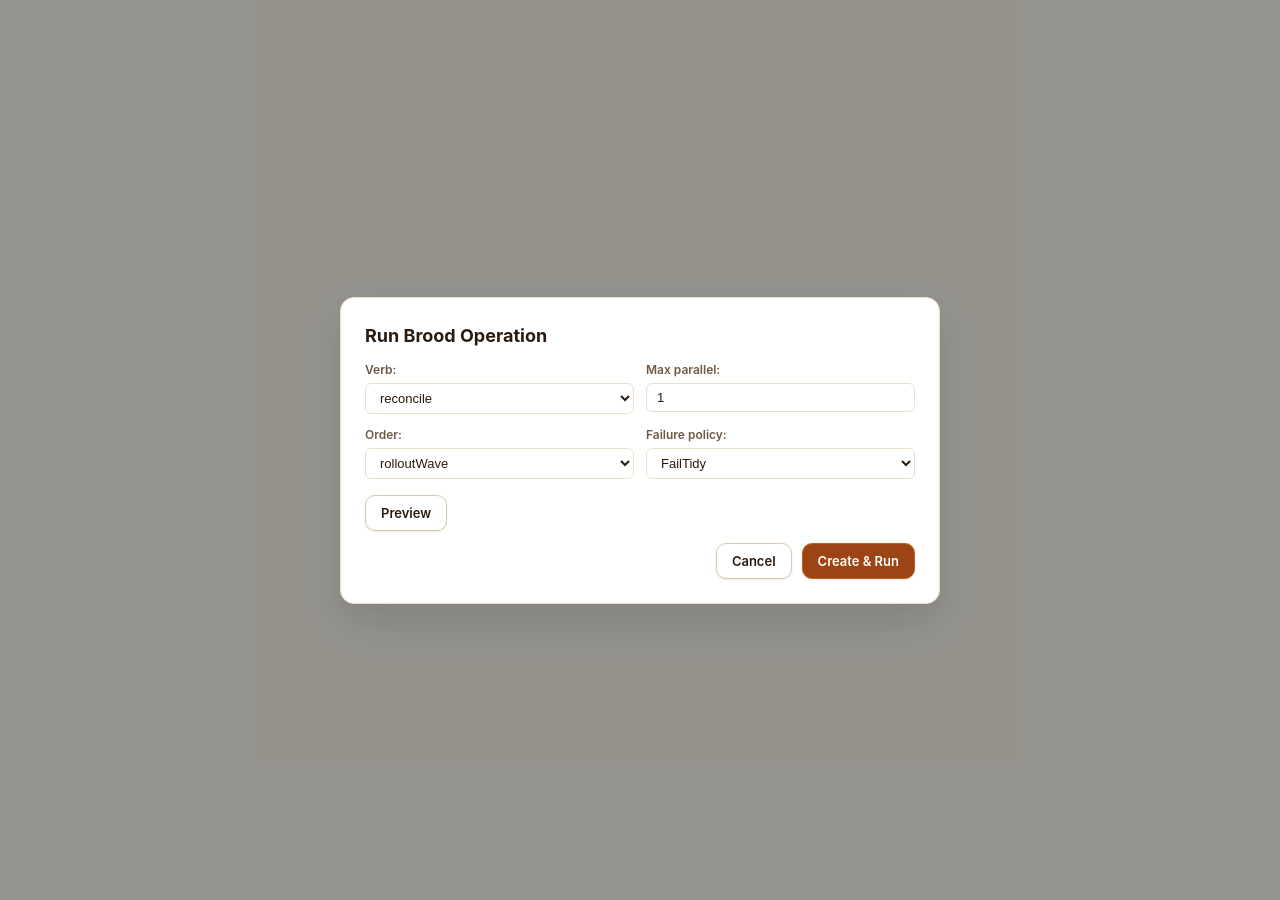
Scenario: BroodOperationModal › clears a shown preview when the caller changes the target selection
Click the button "Preview". click: (406, 512)
box: [365,494,447,530]
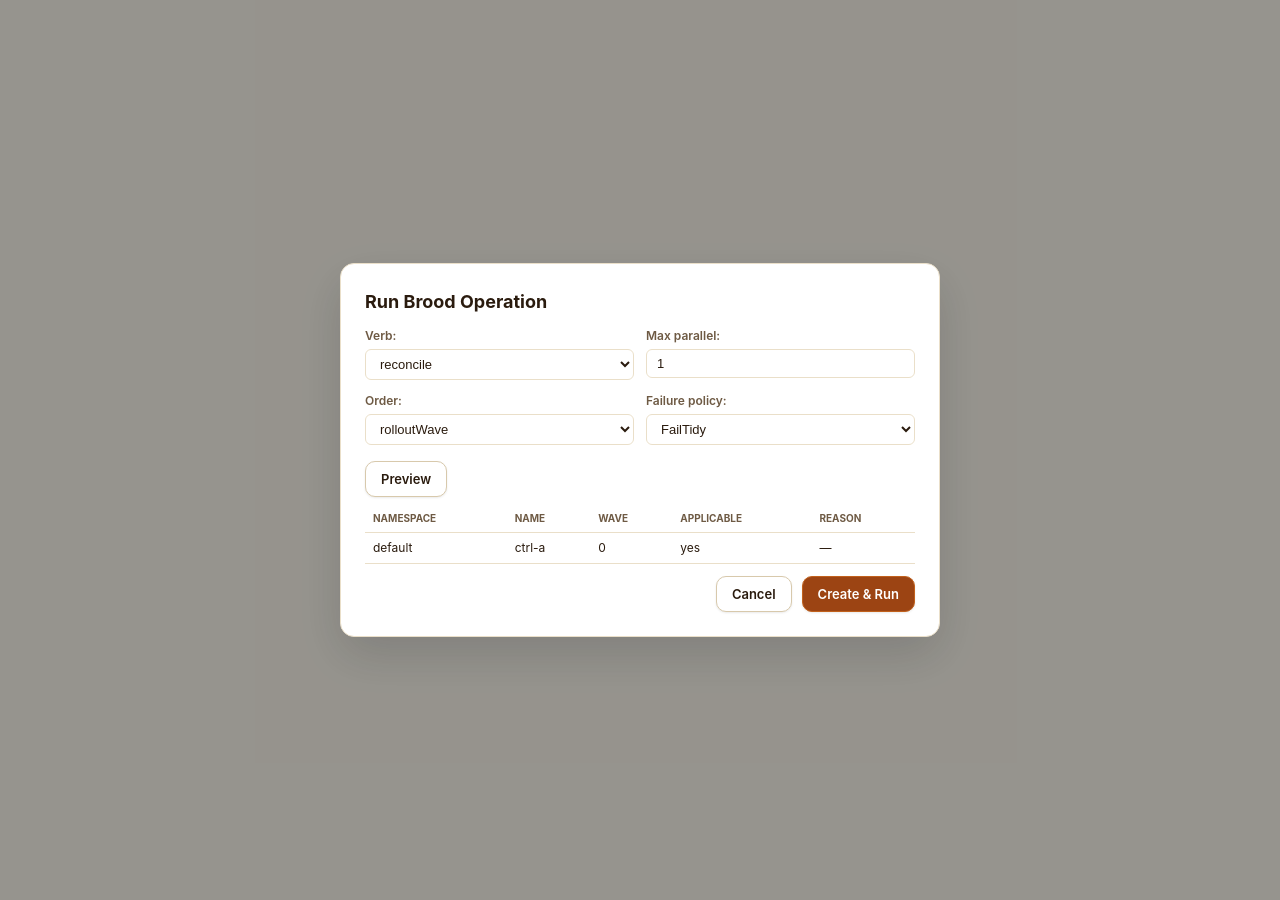
Expected: the text "ctrl-a" is shown, [507,532,590,564]
